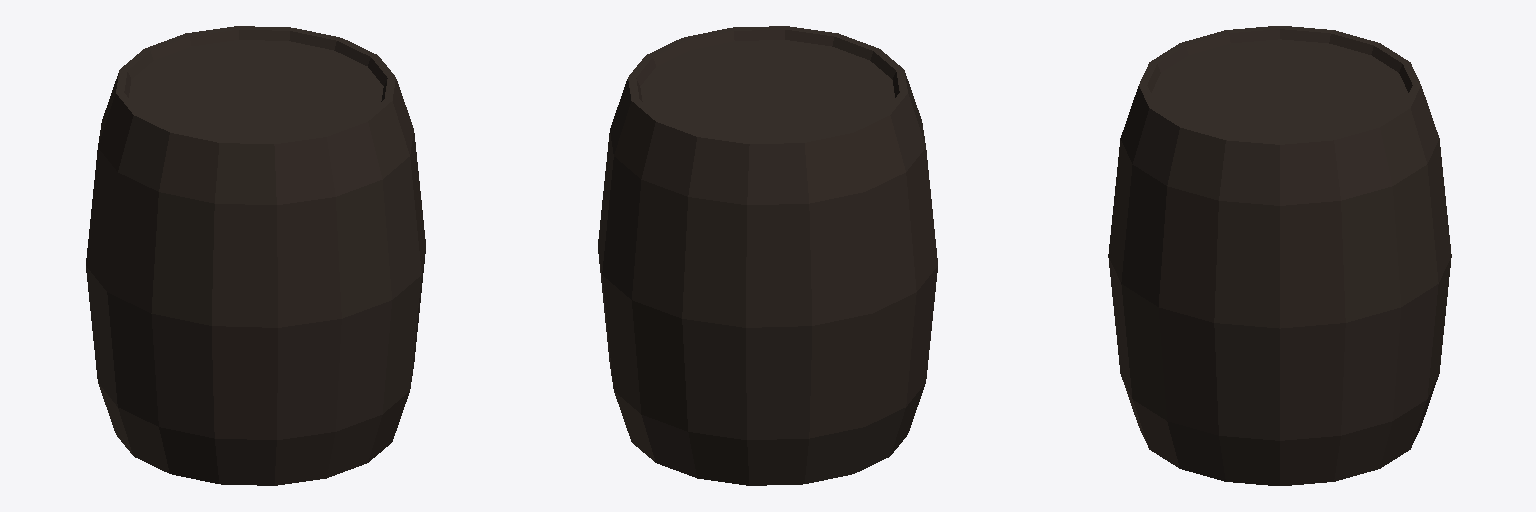
The model's file is barrel.obj.
3 views of the same model, side by side, from view 1: azimuth 30°, elevation 25°; view 2: azimuth 150°, elevation 25°; view 3: azimuth 270°, elevation 25° (orthographic).
Visible parts, largest first — view 1: Mesh2_Barrel1_Model; view 2: Mesh2_Barrel1_Model; view 3: Mesh2_Barrel1_Model.
Boxes of the visible parts, <box> form: Mesh2_Barrel1_Model: <box>86,26,425,485</box>; Mesh2_Barrel1_Model: <box>598,26,937,485</box>; Mesh2_Barrel1_Model: <box>1108,26,1451,485</box>.
Size of the model in its own units: 5.82 by 6.39 by 5.82.